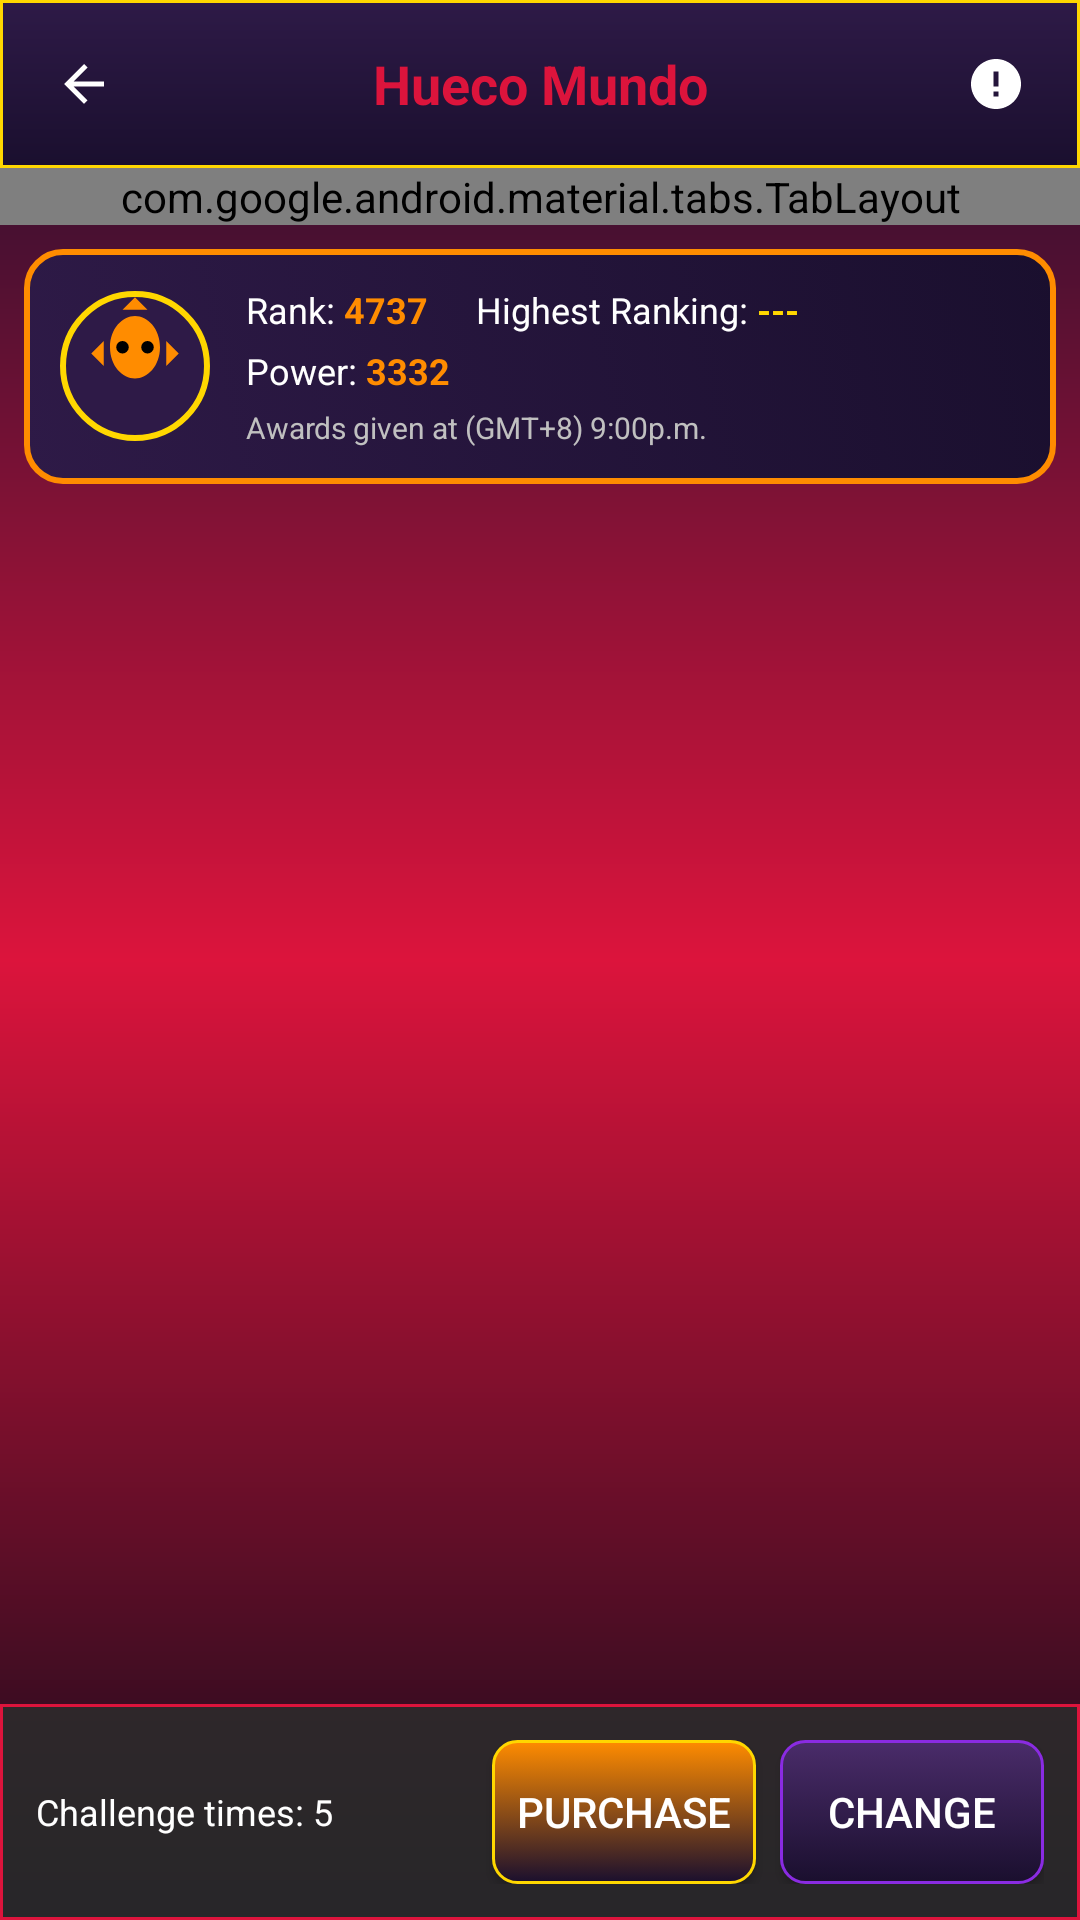

Where icons sit on this 1080 × 1920 app screen, as (x1, y1, x2, y2):
back arrow: (64, 64, 104, 104)
